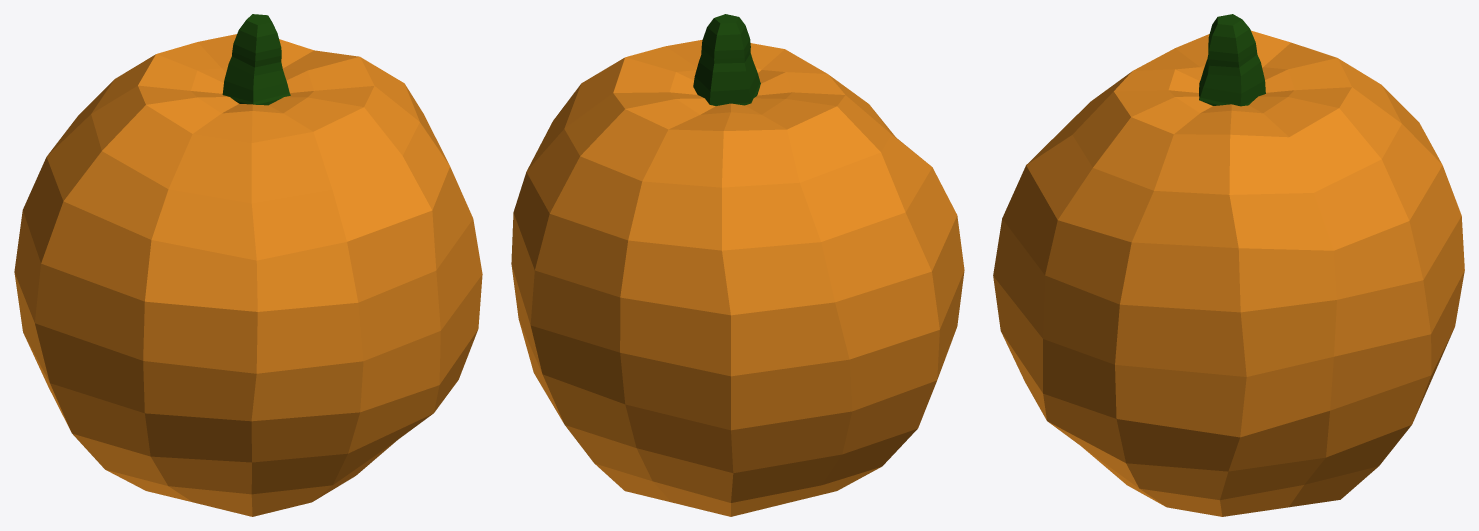
Rendered from pumpkin.gltf.
3 views of the same model, side by side, from view 1: azimuth 30°, elevation 25°; view 2: azimuth 150°, elevation 25°; view 3: azimuth 270°, elevation 25° (orthographic). The views are drawn at different scales.
Visible parts, largest first — view 1: Sphere, Cylinder; view 2: Sphere, Cylinder; view 3: Sphere, Cylinder.
Part boxes in pixels (left/top/right/bottom): Sphere: left=14, top=34, right=482, bottom=516; Cylinder: left=222, top=14, right=290, bottom=105; Sphere: left=511, top=39, right=964, bottom=516; Cylinder: left=693, top=14, right=760, bottom=105; Sphere: left=993, top=30, right=1464, bottom=516; Cylinder: left=1199, top=14, right=1265, bottom=106.
Size of the model in its own units: 1.92 by 2.05 by 1.87.
